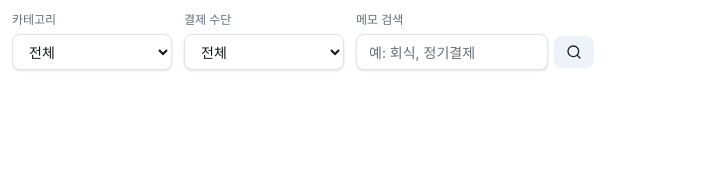
Scenario: TransactionFilterBar - 거래 목록 필터 › 메모 검색 › 입력만으로는 조건이 걸리지 않고 제출해야 적용된다
Step 1. Type "회식" into the search field labelled "메모 검색" → x=452, y=52, box [356,34,548,70]
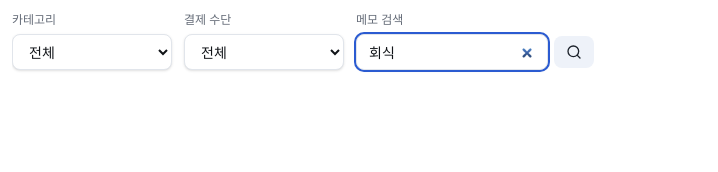
Check: the button "필터 해제" is not shown
Step 2. Click the button named "검색" → x=574, y=52, box [554,36,594,68]
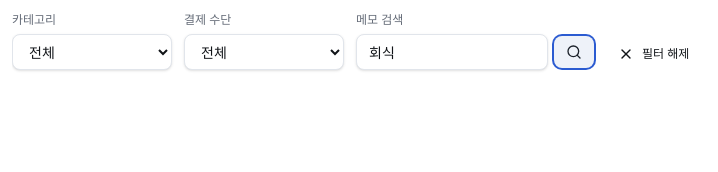
Check: the button "필터 해제" is shown, box [606,38,701,70]
